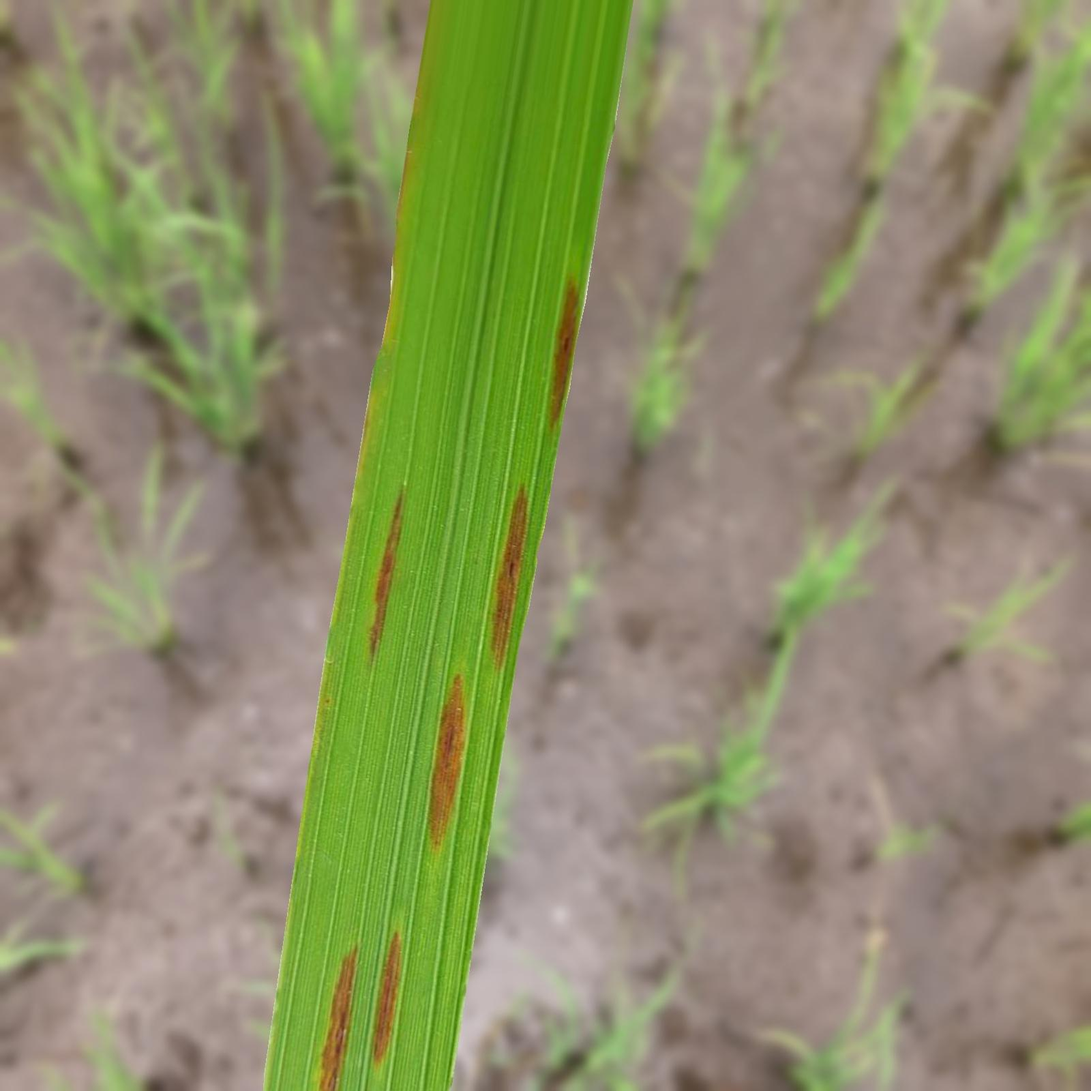LEAF: (263, 0, 633, 1090)
NBS: (429, 674, 465, 850), (492, 488, 527, 667), (369, 490, 403, 657), (320, 948, 357, 1090), (551, 279, 578, 425), (372, 931, 401, 1065)
